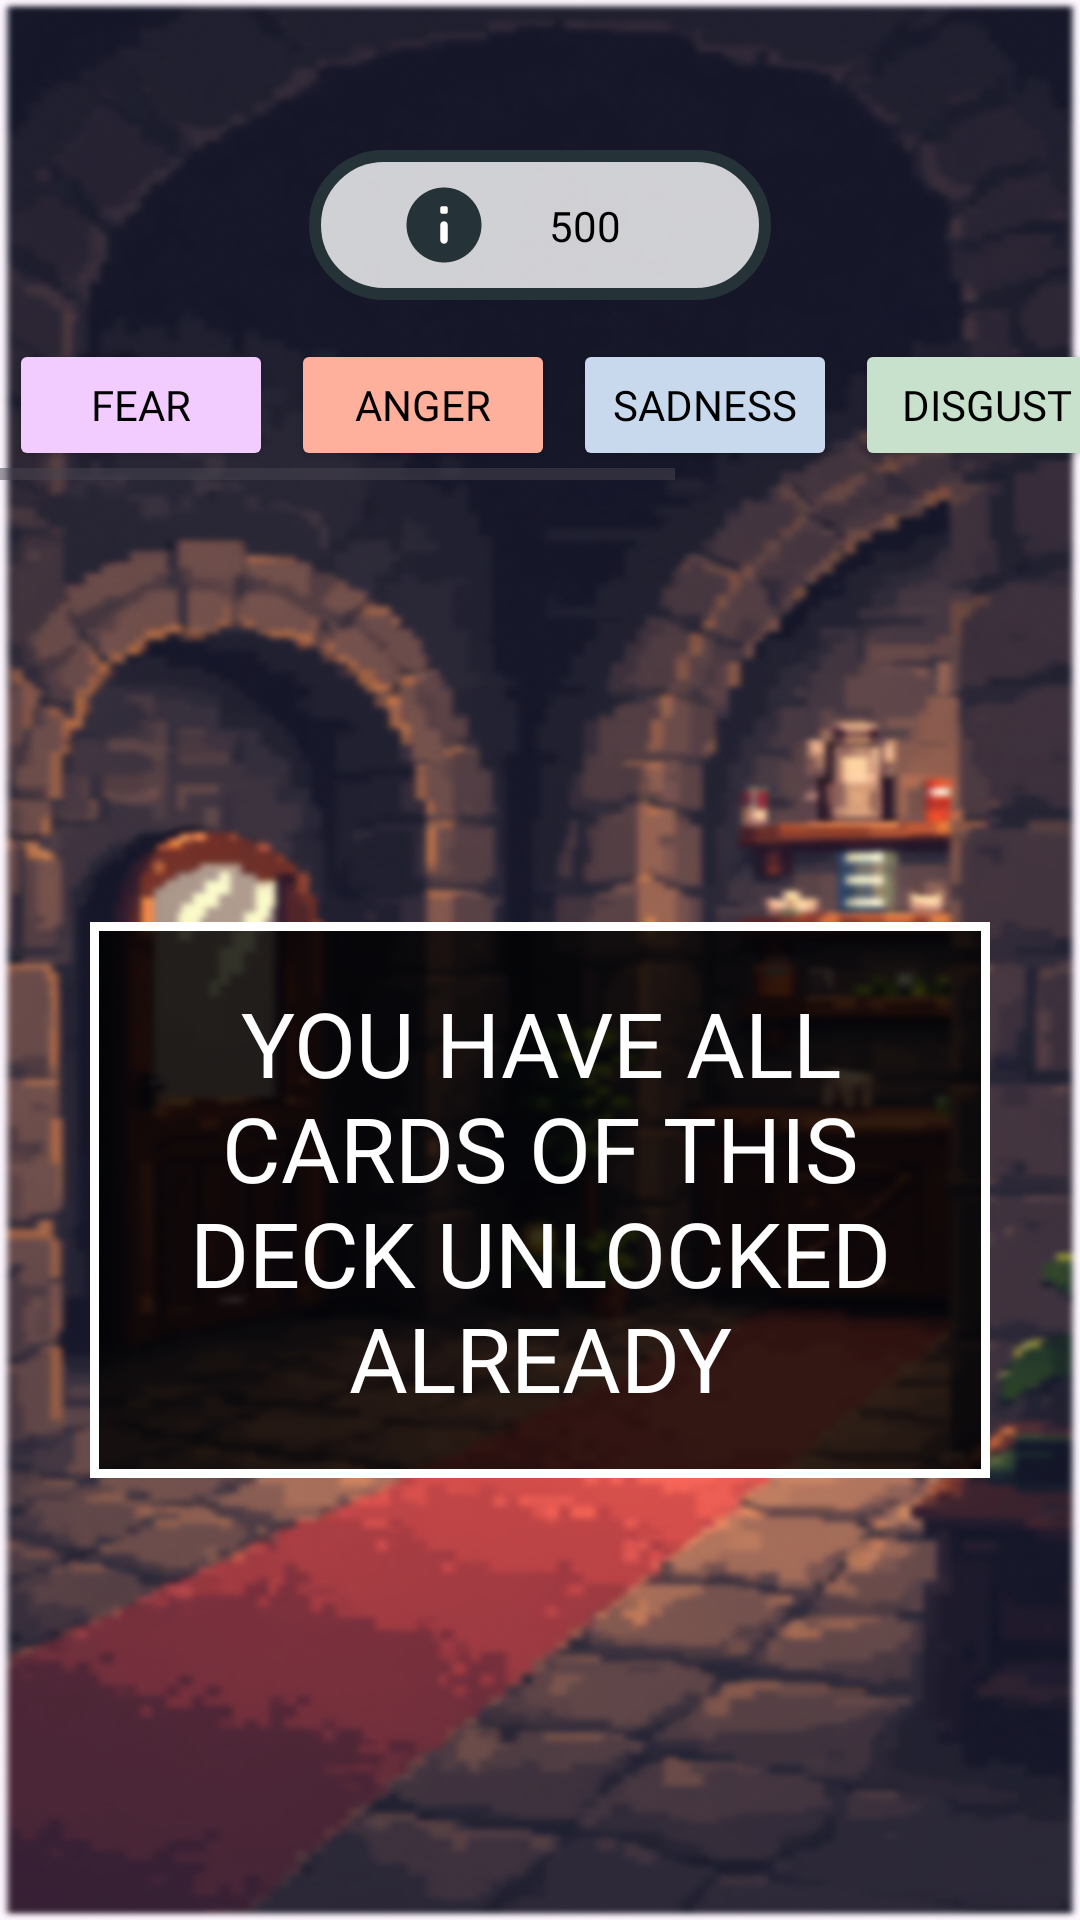

Icon bounding boxes for this 1080×1920 phone screenshot, format (x1, y1, x2, y2):
custom faq: (406, 187, 482, 263)
